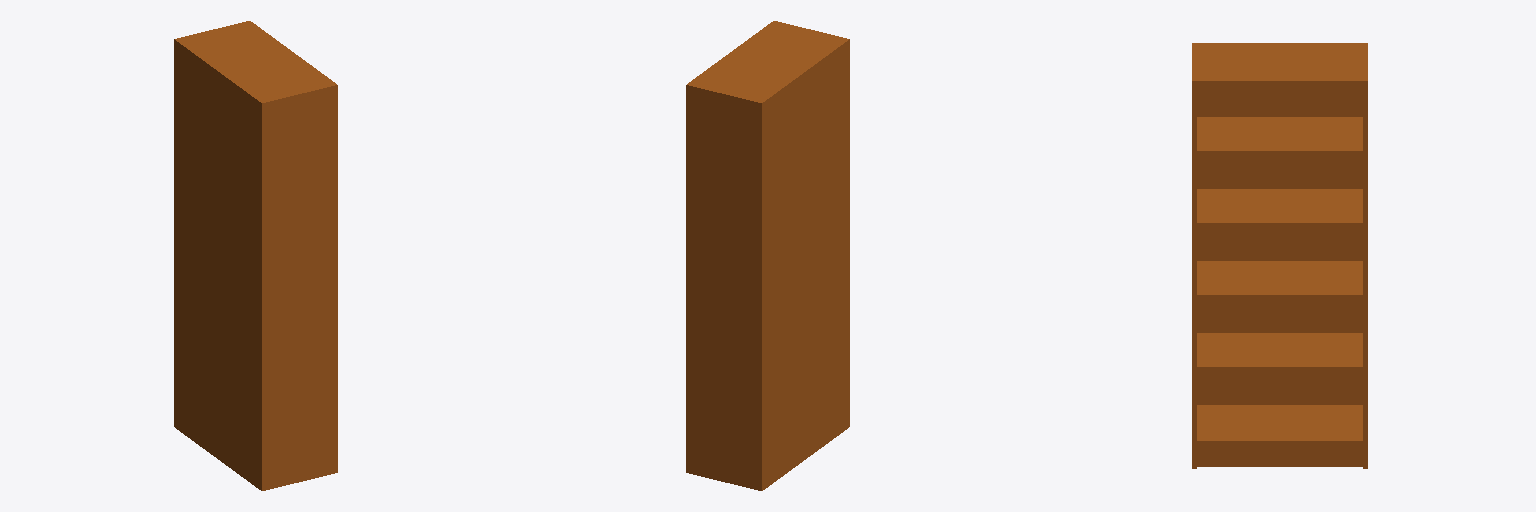
File: ClosetEmpty.obj
3 renders of one model, left to right at view 1: azimuth 30°, elevation 25°; view 2: azimuth 150°, elevation 25°; view 3: azimuth 270°, elevation 25°, orthographic.
Visible parts, largest first — view 1: Mesh5 Bakplate1 Group1 Model, Mesh1 Sideplate1 Group1 Model, Mesh11 Topplate1 Group1 Model; view 2: Mesh5 Bakplate1 Group1 Model, Mesh9 Sideplate2 Group1 Model, Mesh11 Topplate1 Group1 Model; view 3: Mesh5 Bakplate1 Group1 Model, Mesh11 Topplate1 Group1 Model, Mesh15 Bunnplate1 Group1 Model, Mesh3 Hylle1 Group1 Model, Mesh7 Hylle2 Group1 Model, Mesh17 Hylle3 Group1 Model, Mesh19 Hylle4 Group1 Model, Mesh13 Sokkel1 Group1 Model, Mesh1 Sideplate1 Group1 Model, Mesh9 Sideplate2 Group1 Model.
Boxes of the visible parts, x1,y1,x2,y2 form: Mesh5 Bakplate1 Group1 Model: [174, 43, 265, 490]; Mesh1 Sideplate1 Group1 Model: [266, 89, 337, 489]; Mesh11 Topplate1 Group1 Model: [174, 21, 337, 106]; Mesh5 Bakplate1 Group1 Model: [758, 43, 849, 490]; Mesh9 Sideplate2 Group1 Model: [686, 89, 757, 489]; Mesh11 Topplate1 Group1 Model: [686, 21, 849, 106]; Mesh5 Bakplate1 Group1 Model: [1197, 85, 1362, 404]; Mesh11 Topplate1 Group1 Model: [1192, 43, 1367, 84]; Mesh15 Bunnplate1 Group1 Model: [1197, 405, 1362, 444]; Mesh3 Hylle1 Group1 Model: [1197, 261, 1362, 298]; Mesh7 Hylle2 Group1 Model: [1197, 117, 1362, 154]; Mesh17 Hylle3 Group1 Model: [1197, 189, 1362, 226]; Mesh19 Hylle4 Group1 Model: [1197, 333, 1362, 370]; Mesh13 Sokkel1 Group1 Model: [1197, 445, 1362, 466]; Mesh1 Sideplate1 Group1 Model: [1192, 85, 1196, 468]; Mesh9 Sideplate2 Group1 Model: [1363, 85, 1367, 468].
Size of the model in its own units: 0.4 by 1.95 by 0.8.